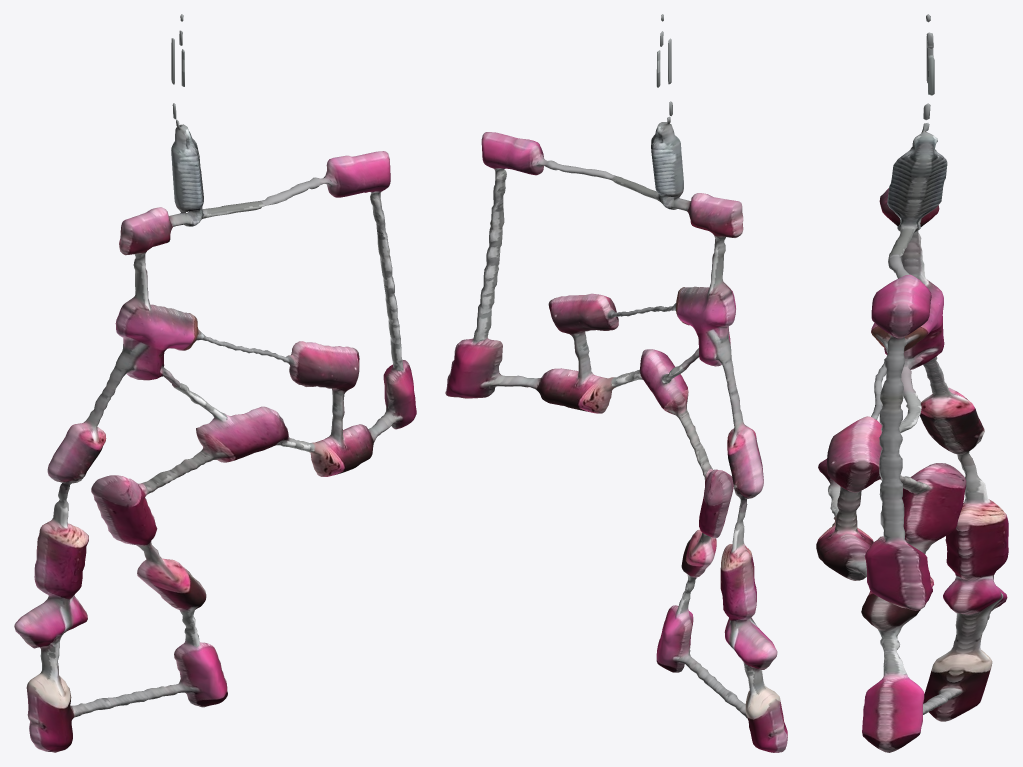
The model's file is hy3d-mov-011.glb.
3 views of the same model, side by side, from view 1: azimuth 30°, elevation 25°; view 2: azimuth 150°, elevation 25°; view 3: azimuth 270°, elevation 25° (orthographic). The views are drawn at different scales.
Visible parts, largest first — view 1: world; view 2: world; view 3: world.
Part boxes in pixels (left/top/right/bottom): world: left=14, top=14, right=416, bottom=752; world: left=445, top=14, right=787, bottom=752; world: left=816, top=14, right=1008, bottom=752.
Bounding box in the file's own units: 1.34 × 2.51 × 0.5699.
Materials: 1 (1 with a texture image).
